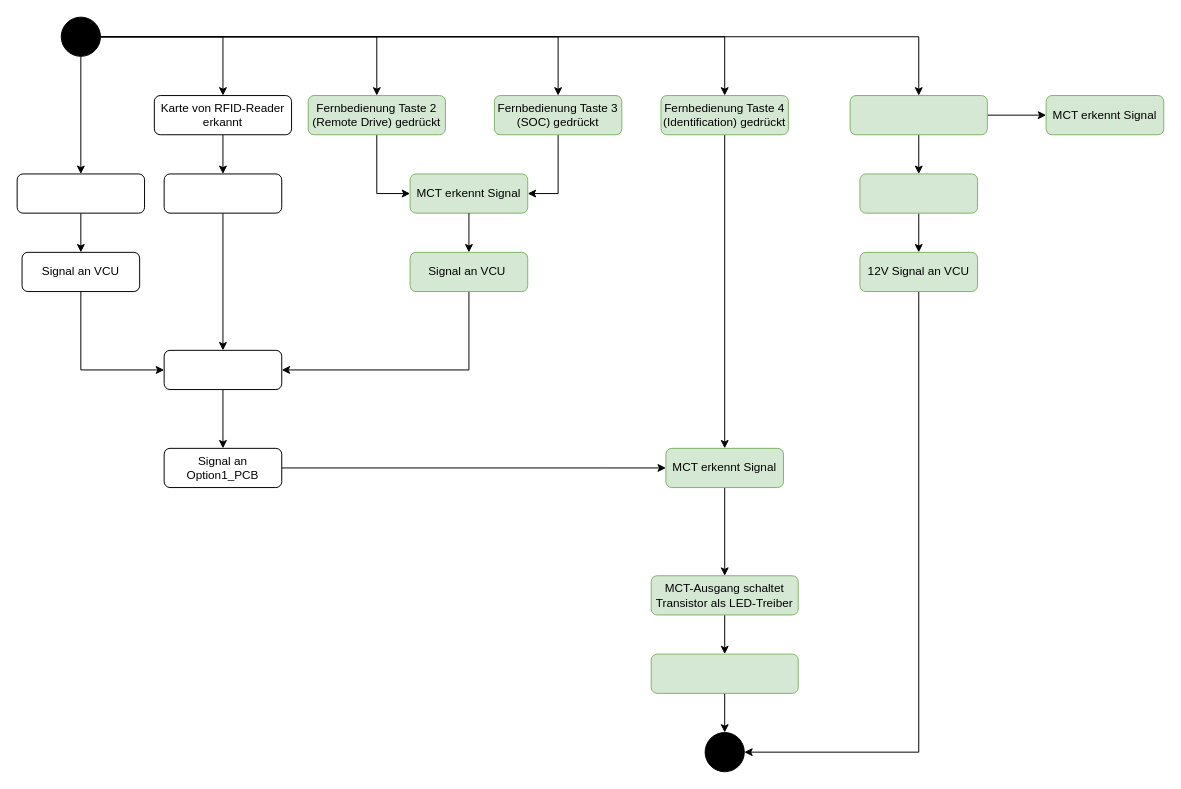
The diagram is 1181 pixels wide and 789 high, and some of its shapes have lost their labels. Here are the shapes that lost their labels. From the top down, the centre of each, then its label:
At point (918, 115): "Fernbedienung Taste 1 (Notaus) gedrückt".
At point (80, 193): "Ready2Drive Taster am Kart gedrückt".
At point (222, 193): "RFID-Reader sendet CAN-MSG".
At point (918, 193): "Digitaler Ausgang schaltet Transistor".
At point (222, 369): "VCU verarbeitet Signal".
At point (724, 673): "LED leuchtet / blinkt".
